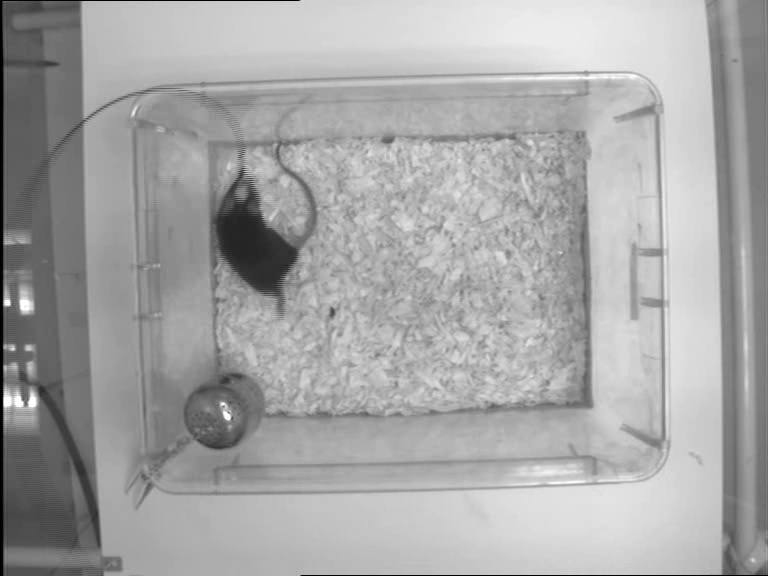mice: (212, 137, 317, 319)
